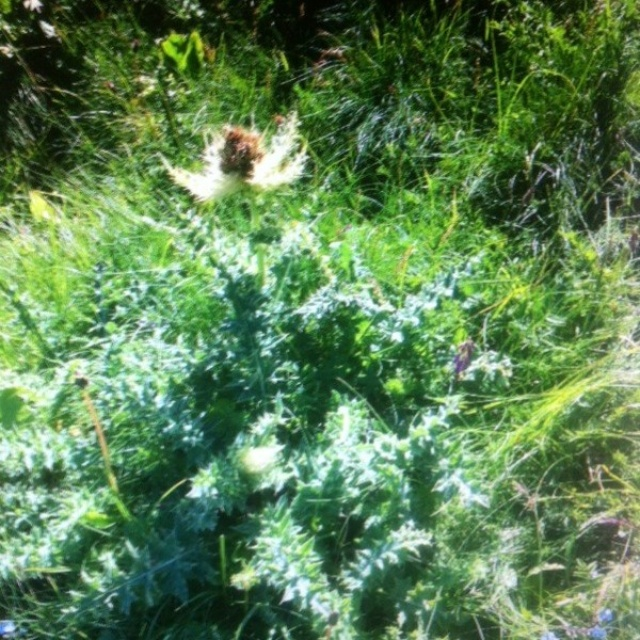obstacle: (144, 147, 497, 604)
